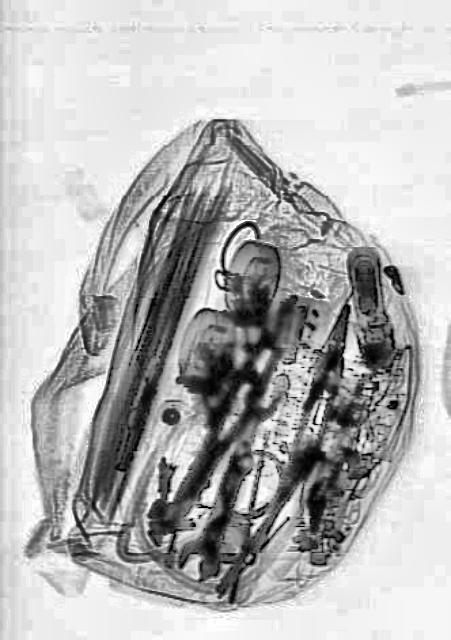Pliers: (276, 296, 362, 492)
Wrench: (171, 372, 285, 590)
